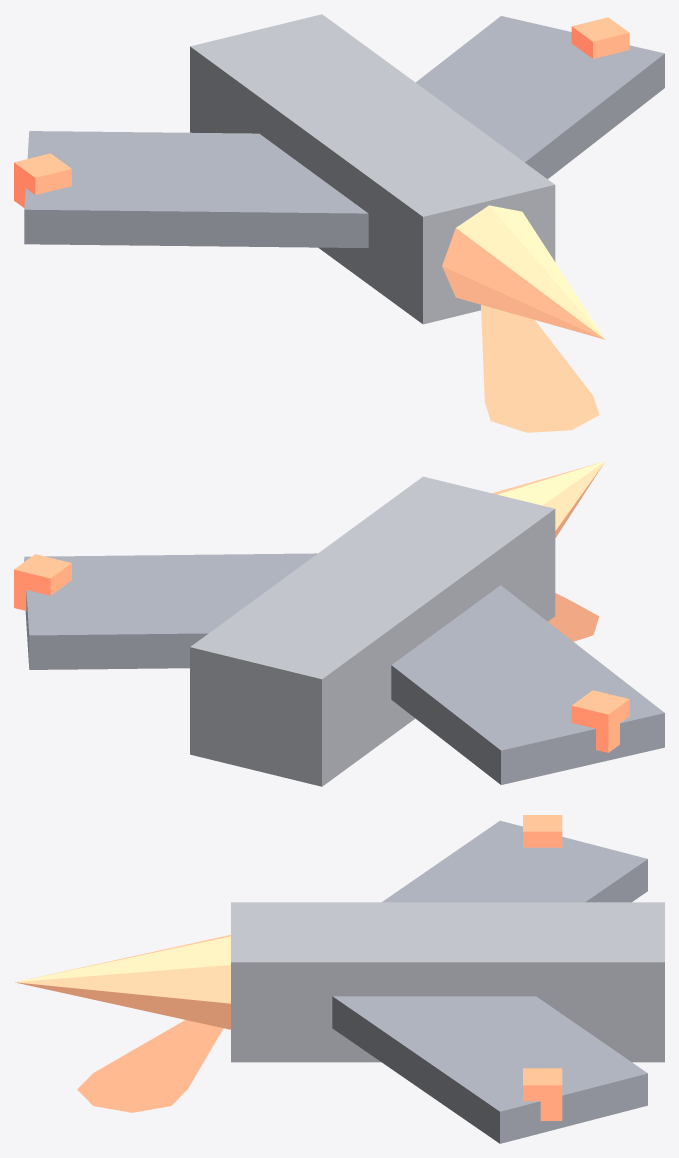
Rendered from wasp.glb.
3 views of the same model, one above another, from view 1: azimuth 30°, elevation 25°; view 2: azimuth 150°, elevation 25°; view 3: azimuth 270°, elevation 25° (orthographic). The views are drawn at different scales.
Bounding box in the file's own units: 0.8731 × 0.22 × 0.825.
